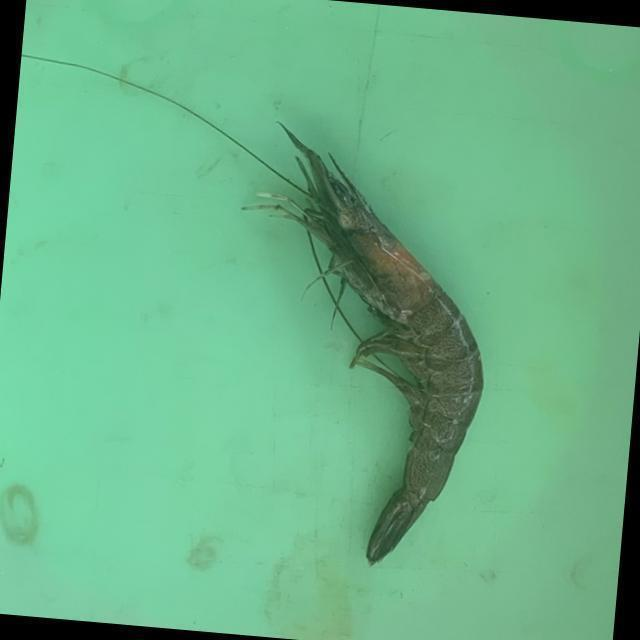shrimp: (253, 126, 483, 564)
